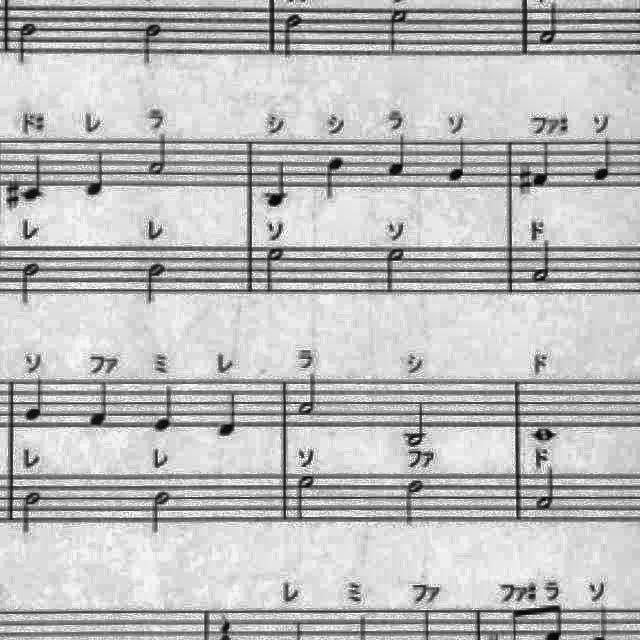Diez: (2, 174, 22, 213), (517, 164, 535, 196)
Full-note: (528, 422, 560, 446)
Half-note: (402, 397, 433, 449), (262, 244, 290, 300), (382, 244, 410, 300), (534, 464, 564, 516), (384, 5, 412, 60), (290, 472, 318, 526), (402, 474, 430, 528), (278, 10, 306, 62), (146, 487, 174, 539), (18, 488, 46, 540), (13, 18, 42, 68), (537, 0, 567, 48), (142, 258, 170, 308), (18, 257, 46, 307), (528, 238, 556, 288), (138, 19, 166, 69), (296, 369, 322, 419), (145, 131, 171, 181)
Quarter-note: (263, 156, 293, 212), (152, 382, 180, 436), (88, 376, 116, 429), (216, 388, 244, 440), (320, 152, 348, 204), (22, 372, 50, 424), (444, 136, 472, 188), (590, 136, 618, 187), (22, 151, 48, 205), (84, 147, 110, 200), (382, 134, 410, 182), (530, 140, 554, 192)
